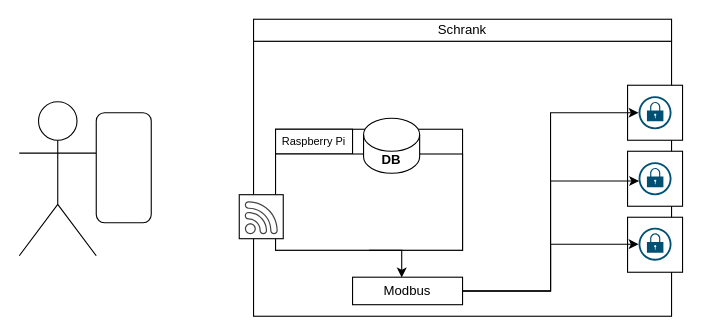
Image size: 702x336. Some labels were removed from this diagram. The centre of each missing label's shape, as x and y in pixels:
Nutzer: pixel 57 178
Nutzerverwaltung Gegenstandsverwaltung Endpunkte zum Schrank: pixel 368 201
